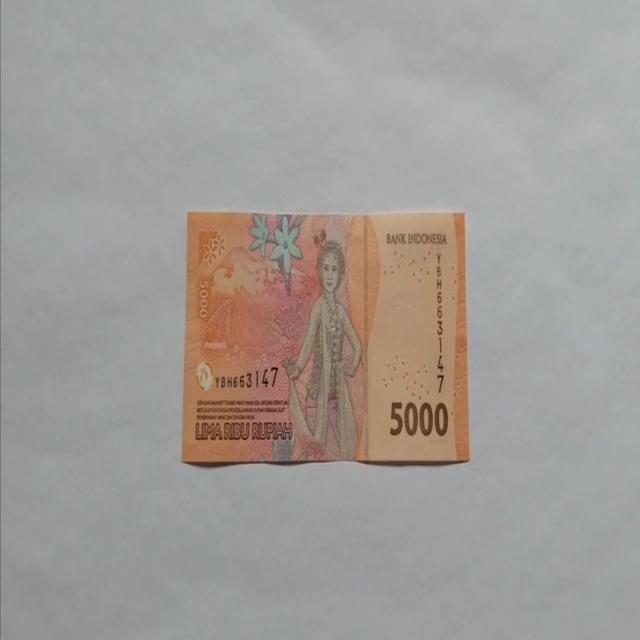lima ribu rupiah: (180, 208, 470, 467), (281, 239, 364, 461)
